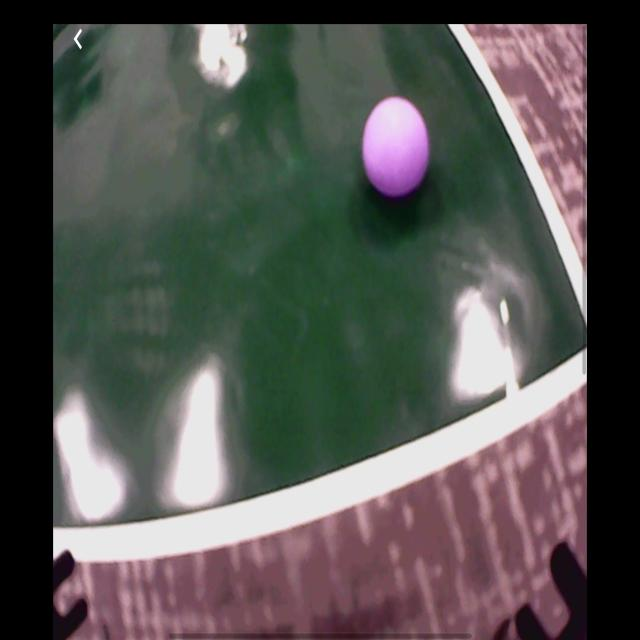ball: (363, 97, 430, 200)
